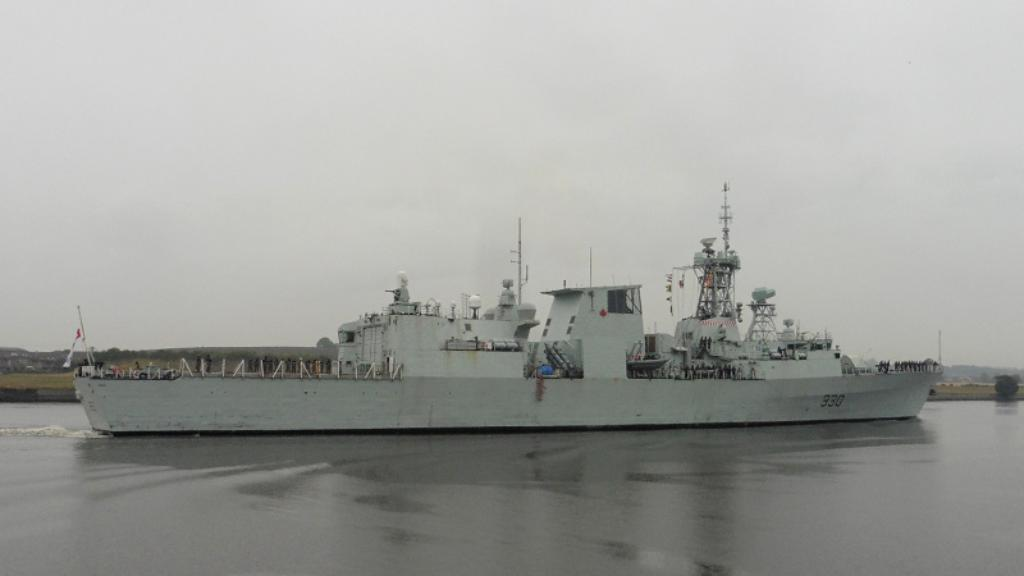Warship: (72, 180, 942, 436)
